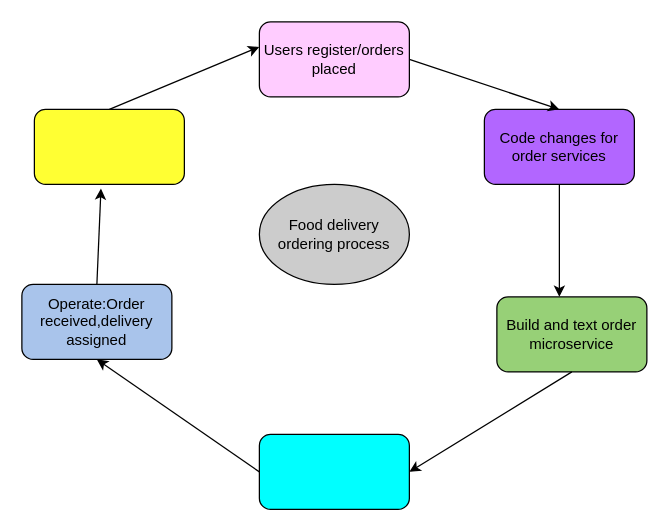
Image size: 669x531. Some labels were removed from this diagram. Here are the shapes that lost their labels. From the top down, the box of each, then its label:
(33, 108, 184, 184): Monitor;user feedback service logs
(258, 433, 409, 509): Deploy to cloud
